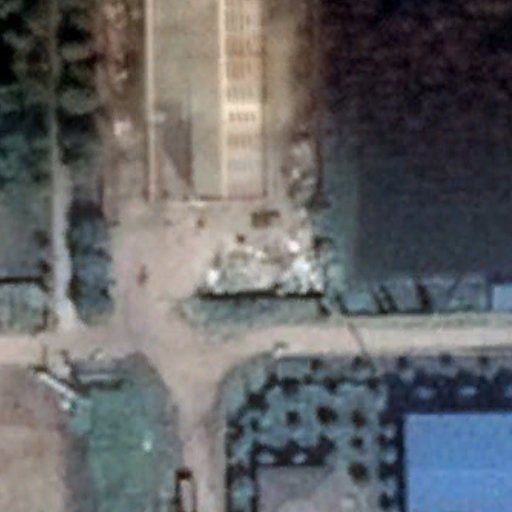msw: (205, 233, 319, 295)
